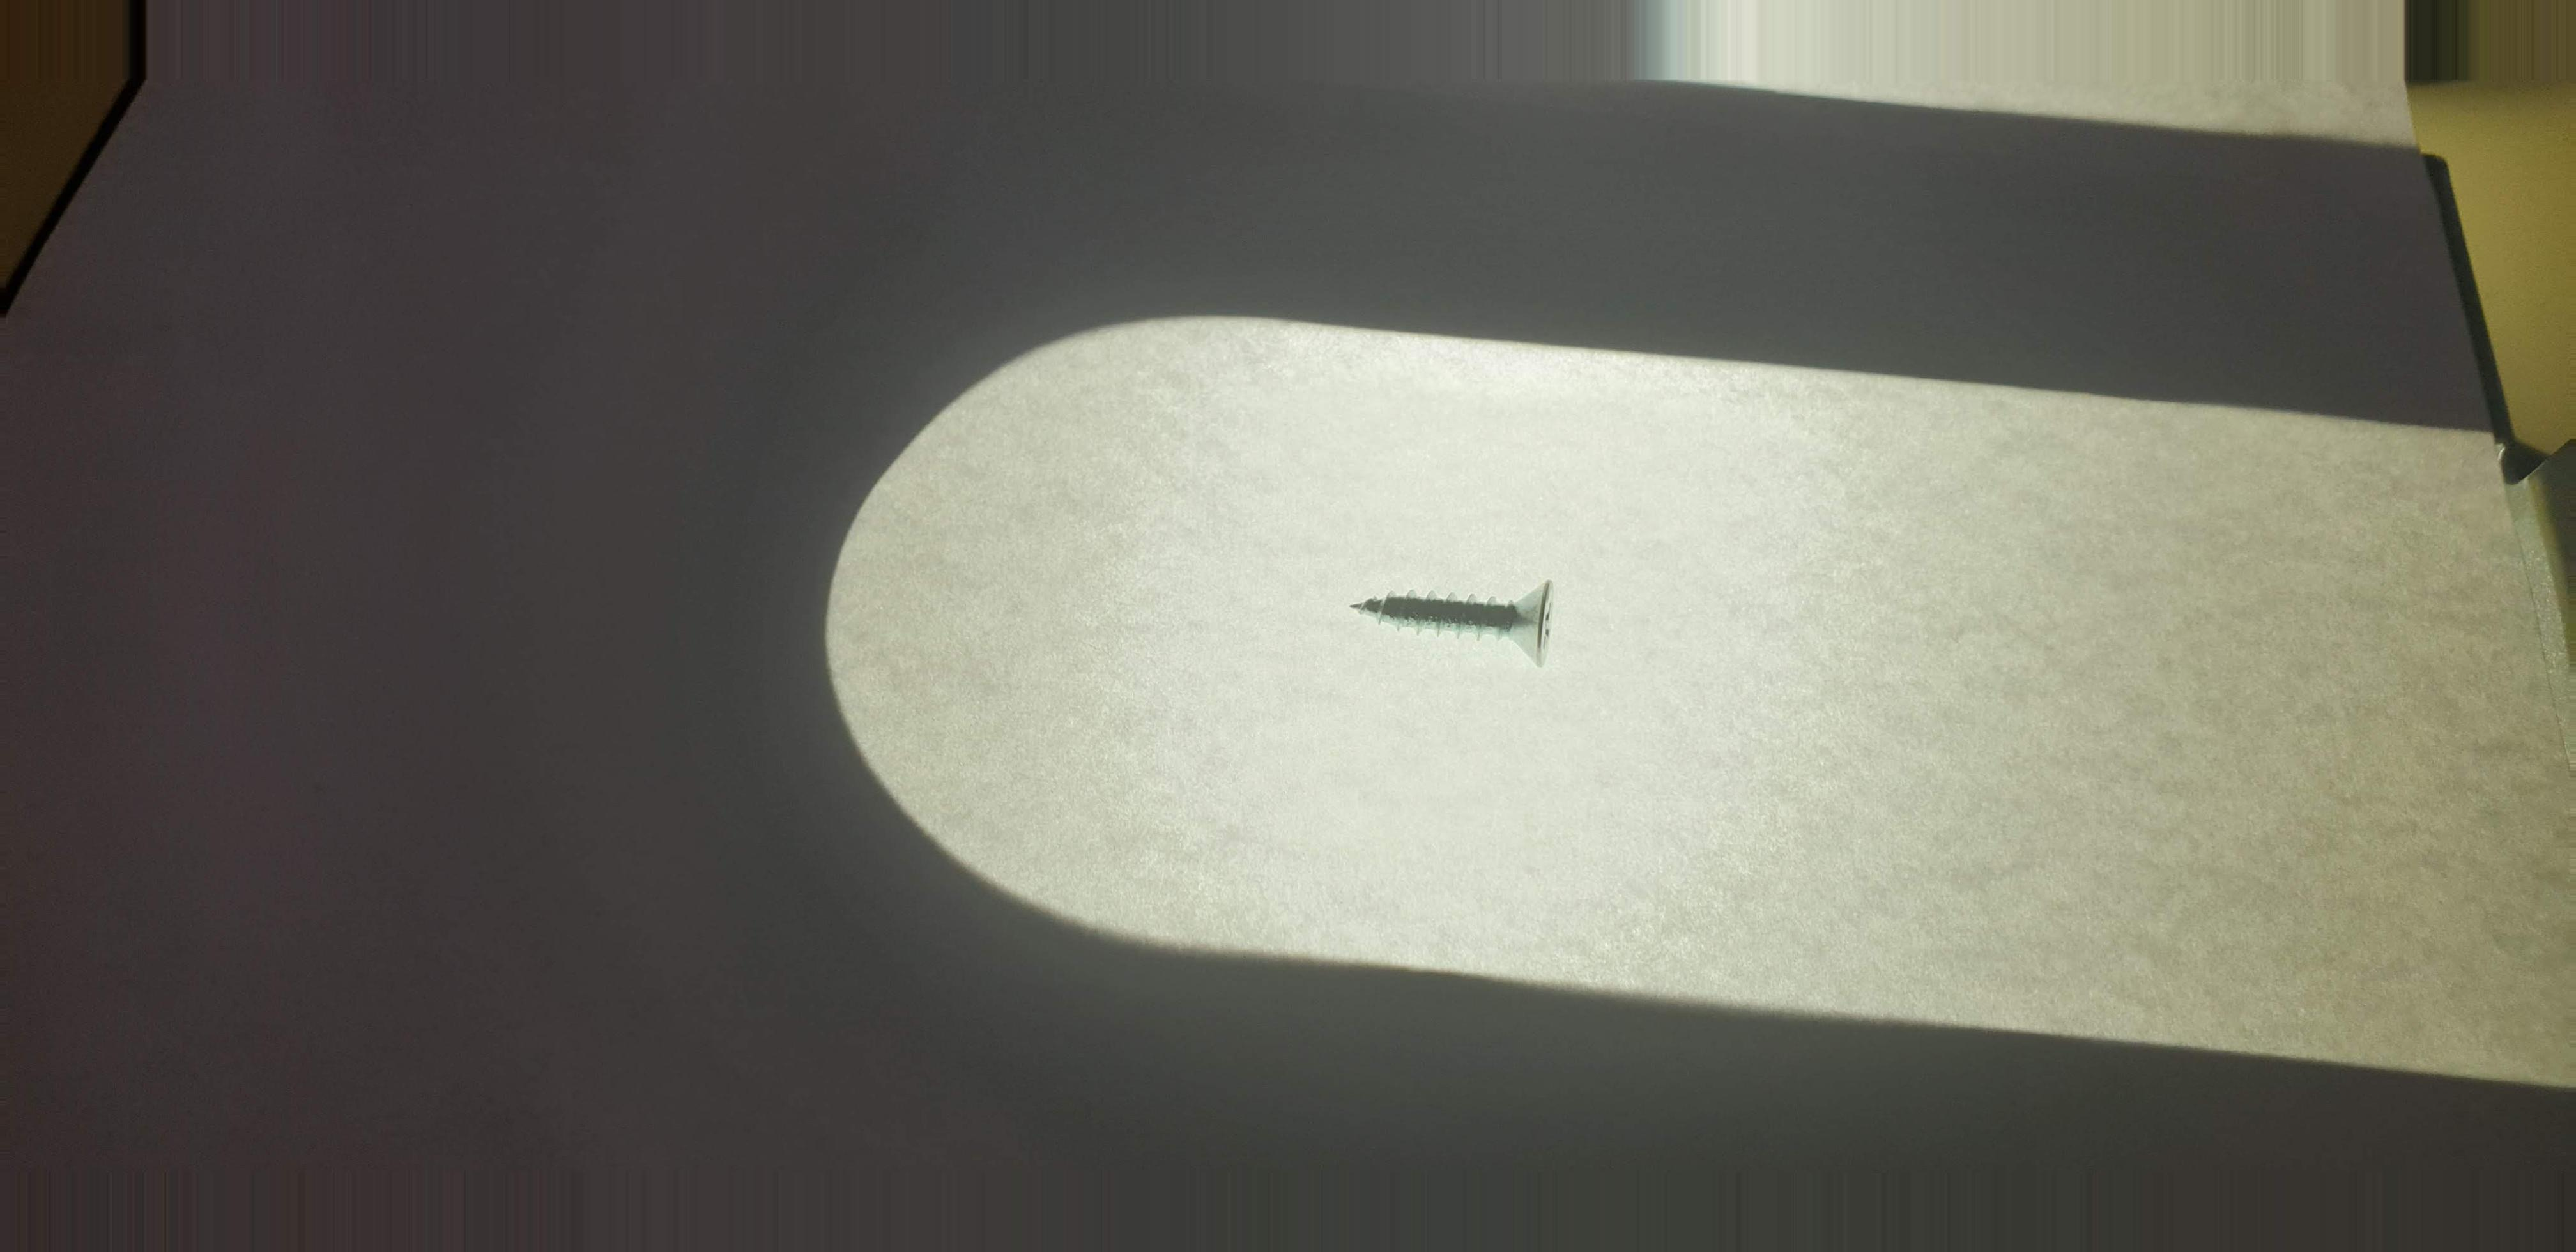S003: (1321, 554, 1641, 693)
